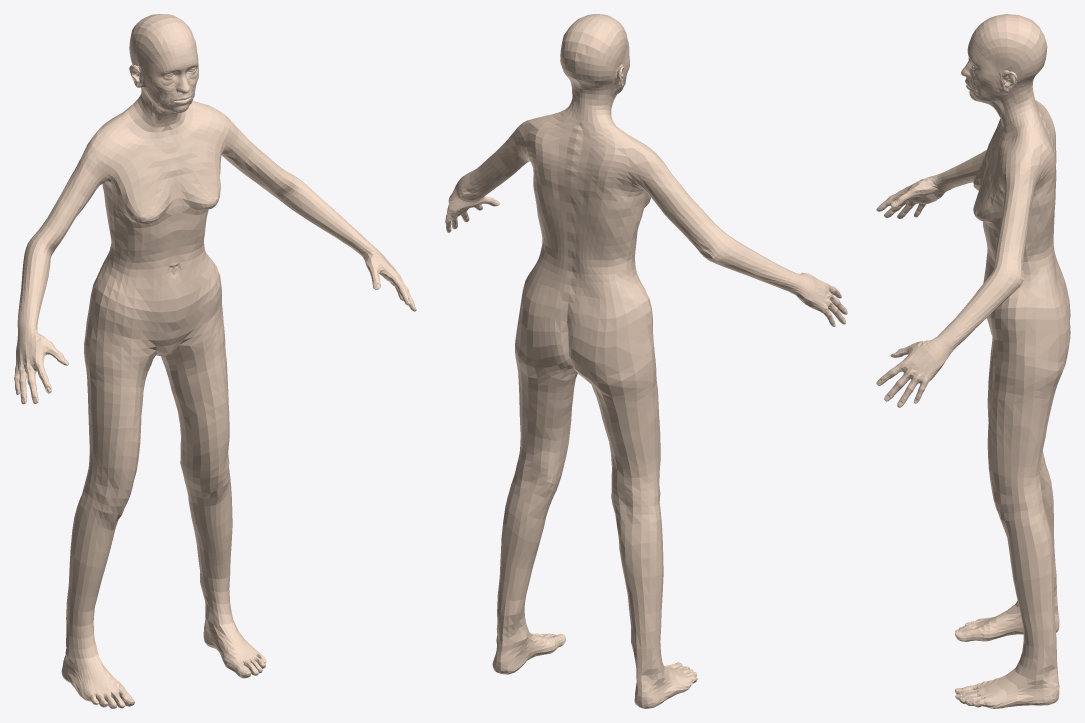
File: female-older-lean-low.glb
3 renders of one model, left to right at view 1: azimuth 30°, elevation 25°; view 2: azimuth 150°, elevation 25°; view 3: azimuth 270°, elevation 25°, orthographic.
Parts seen in each view (by area): view 1: world; view 2: world; view 3: world.
Part boxes in pixels (left/top/right/bottom): world: left=14, top=14, right=416, bottom=708; world: left=445, top=14, right=847, bottom=708; world: left=876, top=14, right=1070, bottom=708.
Size of the model in its own units: 1.13 by 1.8 by 0.4864.
